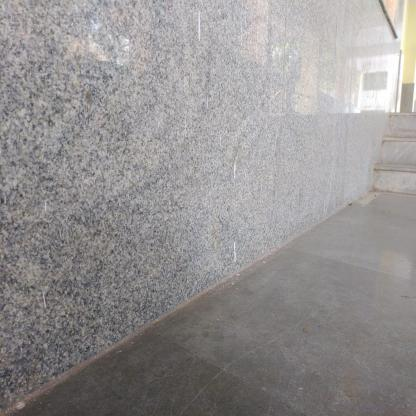stairs: (391, 112, 416, 203)
